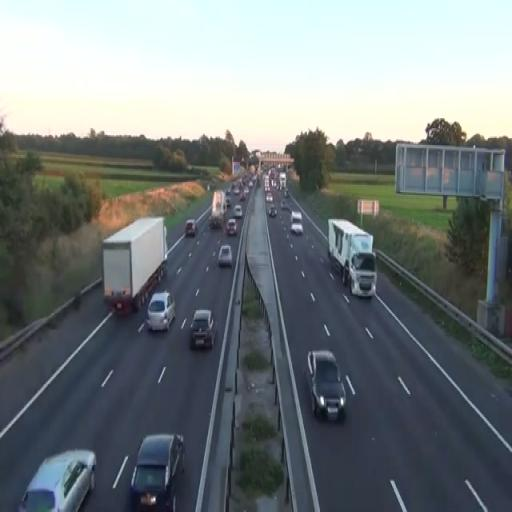Car: (18, 449, 97, 511), (129, 433, 186, 511), (306, 350, 346, 422), (146, 291, 176, 332), (190, 308, 218, 350), (218, 244, 232, 268), (290, 212, 304, 236), (185, 218, 197, 237), (227, 218, 238, 236), (234, 204, 242, 220), (268, 206, 277, 218)
Truck: (102, 216, 168, 316), (328, 218, 377, 298), (210, 190, 227, 228)
